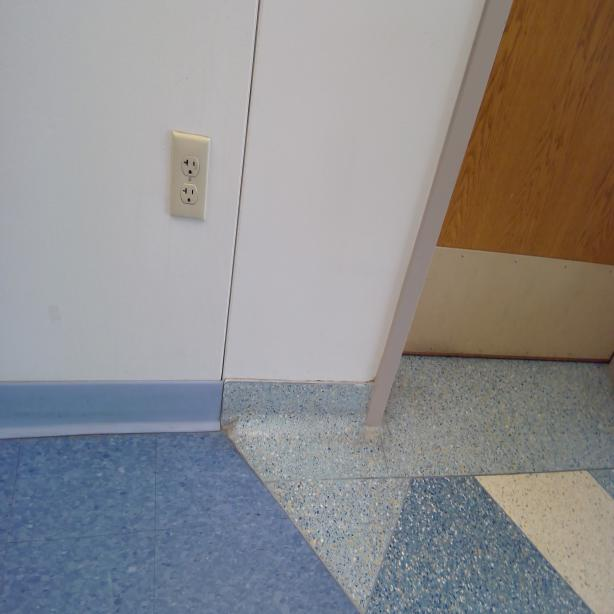typeb: (180, 154, 199, 178), (182, 184, 197, 205)
